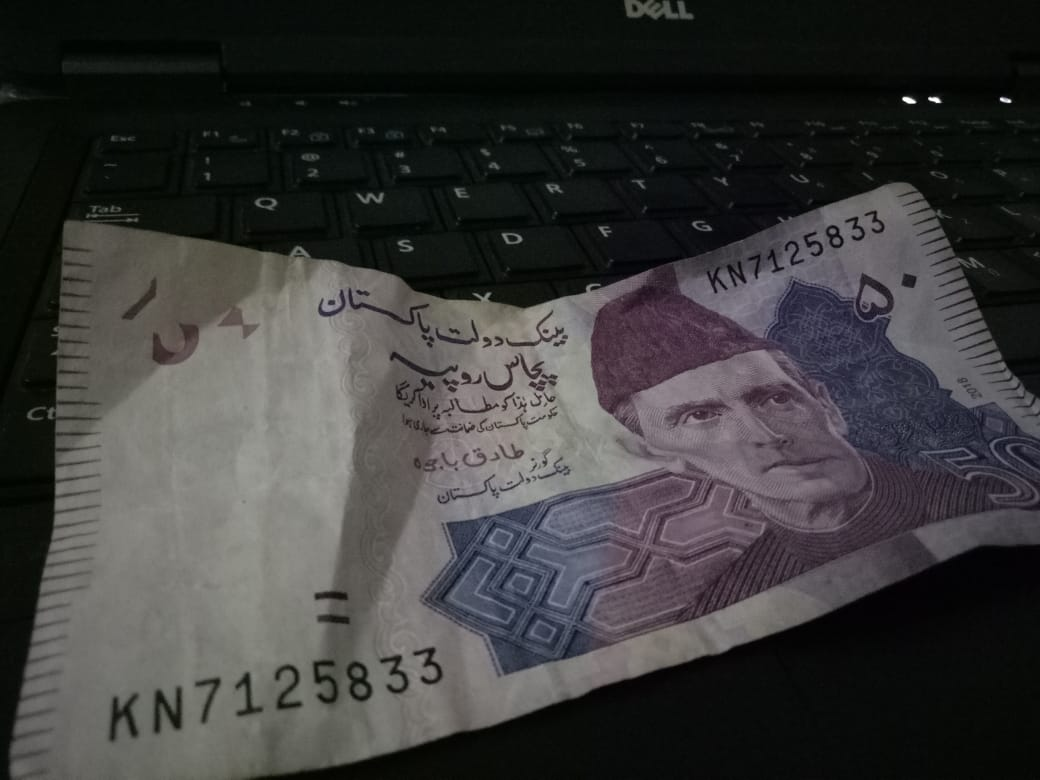50 rupee: (57, 141, 1040, 743)
